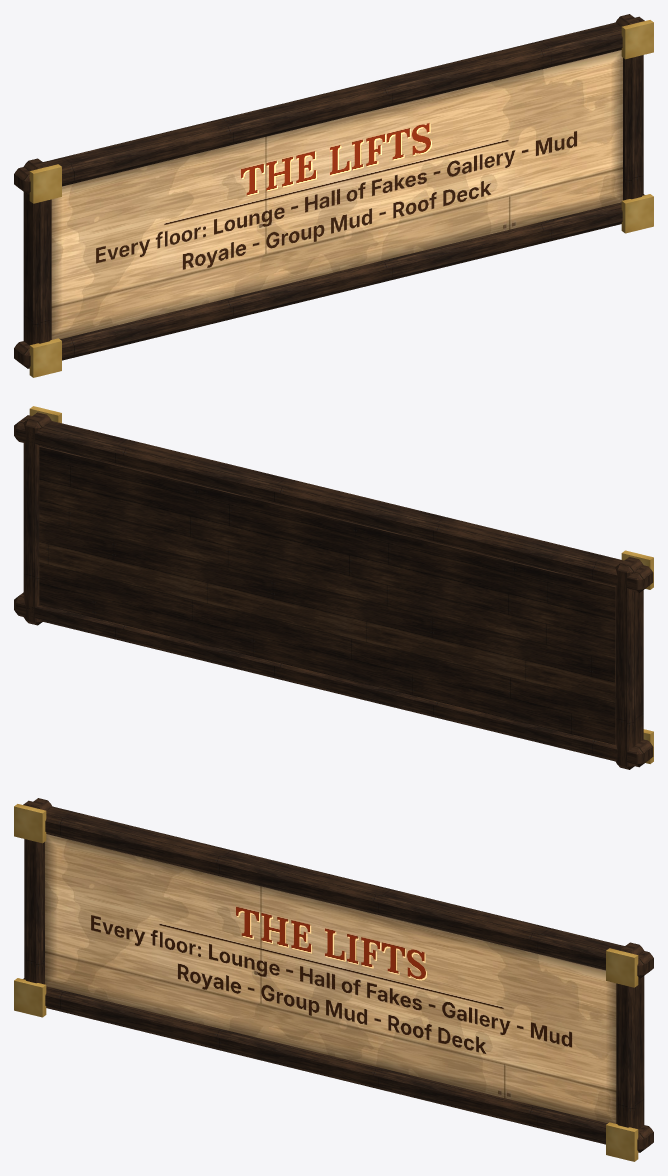
Rendered from sg_lifts.glb.
The picture shows the model from 3 angles, top to bottom: view 1: azimuth 30°, elevation 25°; view 2: azimuth 150°, elevation 25°; view 3: azimuth 330°, elevation 25°; orthographic projection.
Parts seen in each view (by area): view 1: spire; view 2: spire; view 3: spire.
Part boxes in pixels (x1,y1,x2,y2): spire: (14,14,653,377); spire: (14,406,653,769); spire: (14,798,653,1161).
Size of the model in its own units: 3.96 by 1.23 by 0.19.
3 materials, 3 textured.
